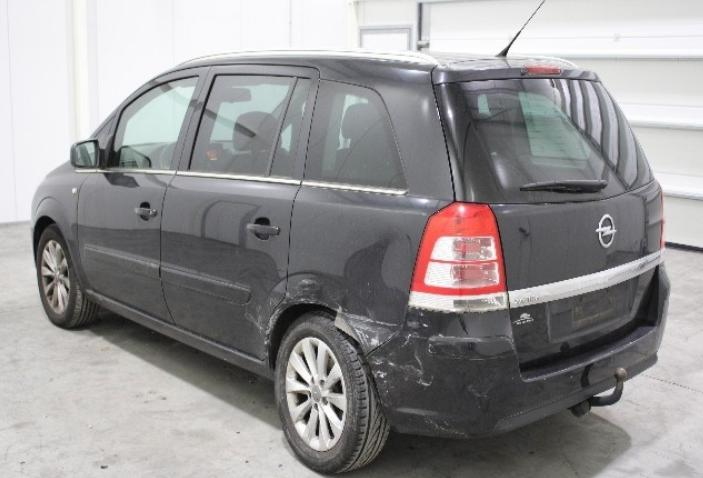Back-bumper: (367, 261, 671, 437)
Back-door: (160, 63, 319, 361)
Back-wheel: (274, 311, 391, 474)
Back-window: (188, 75, 310, 178), (304, 78, 407, 190)
Back-windshield: (432, 78, 653, 205)
Fender: (30, 160, 96, 289)
Front-door: (77, 66, 209, 326)
Front-wheel: (37, 224, 100, 329)
Front-window: (107, 77, 198, 169), (95, 118, 113, 149)
Mirror: (69, 138, 109, 169)
Quarter-panel: (269, 181, 452, 355)
Rocker-panel: (84, 289, 274, 379)
Roof: (196, 50, 552, 70)
Tail-light: (408, 202, 509, 312), (659, 192, 665, 264)
Trunk: (488, 179, 662, 372), (433, 58, 600, 83)
